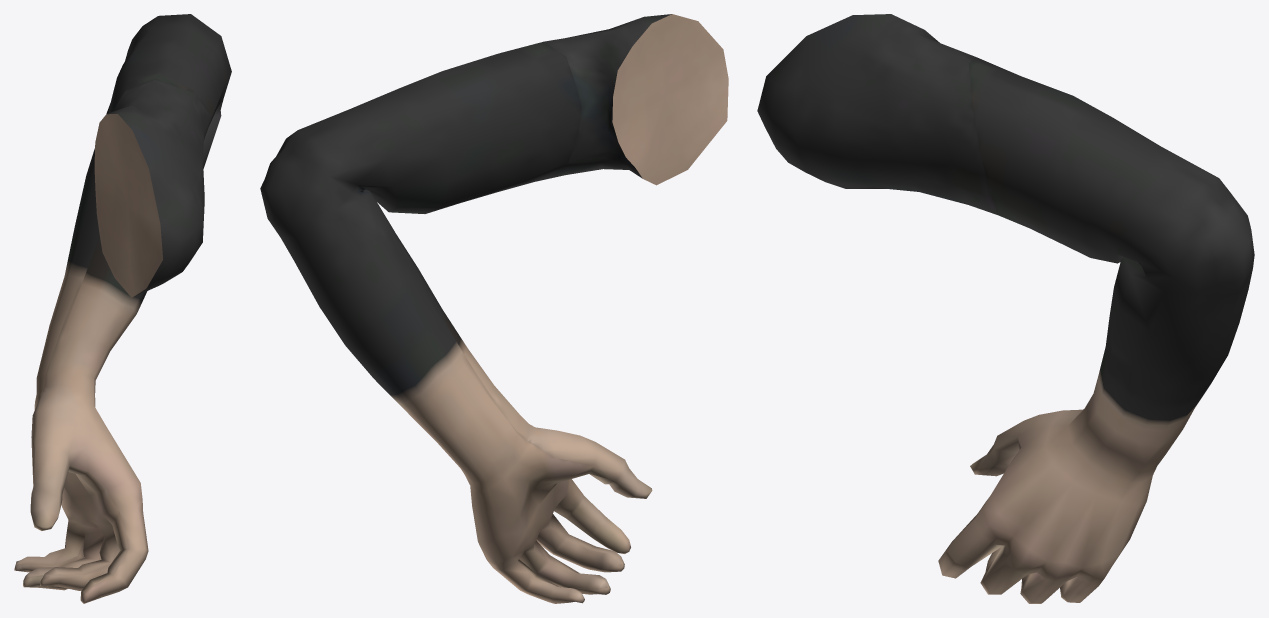
Rendered from dest_nt_nuked_female_03_arm_left_LOD0.obj.
The picture shows the model from 3 angles, left to right: view 1: azimuth 30°, elevation 25°; view 2: azimuth 150°, elevation 25°; view 3: azimuth 270°, elevation 25°; orthographic projection. The views are drawn at different scales.
Visible parts, largest first — view 1: mtl_nt_2020_manne_fem01_head2; view 2: mtl_nt_2020_manne_fem01_head2; view 3: mtl_nt_2020_manne_fem01_head2.
Part boxes in pixels (x1,y1,x2,y2): mtl_nt_2020_manne_fem01_head2: [14, 14, 231, 603]; mtl_nt_2020_manne_fem01_head2: [260, 14, 728, 603]; mtl_nt_2020_manne_fem01_head2: [757, 14, 1254, 603].
Size of the model in its own units: 22.16 by 39.48 by 31.09.
